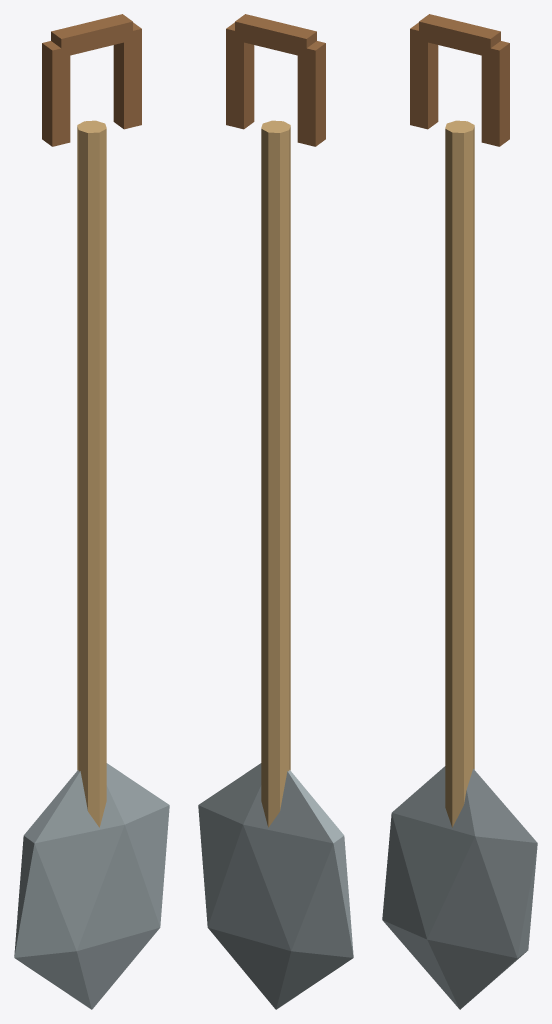
Rendered from TR3_Tool_Shovel.glb.
3 views of the same model, side by side, from view 1: azimuth 30°, elevation 25°; view 2: azimuth 150°, elevation 25°; view 3: azimuth 330°, elevation 25° (orthographic).
Visible parts, largest first — view 1: TR3_Tool_Shovel; view 2: TR3_Tool_Shovel; view 3: TR3_Tool_Shovel.
Boxes of the visible parts, left/top/right/bottom form: TR3_Tool_Shovel: left=14, top=14, right=169, bottom=1009; TR3_Tool_Shovel: left=198, top=14, right=353, bottom=1009; TR3_Tool_Shovel: left=382, top=14, right=537, bottom=1009.
Size of the model in its own units: 0.3041 by 1.84 by 0.0595.
